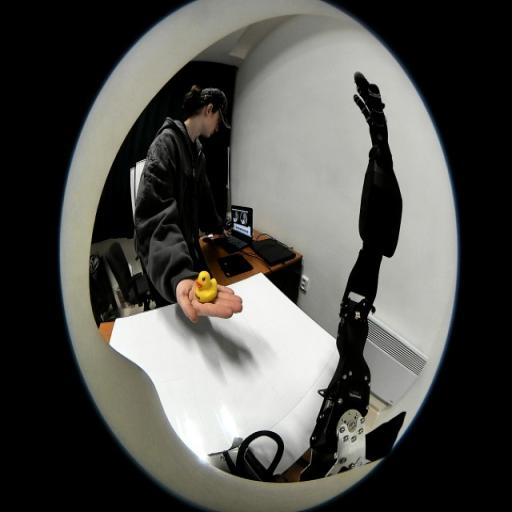Duck: (195, 270, 218, 302)
RightHand: (370, 112, 388, 146)
